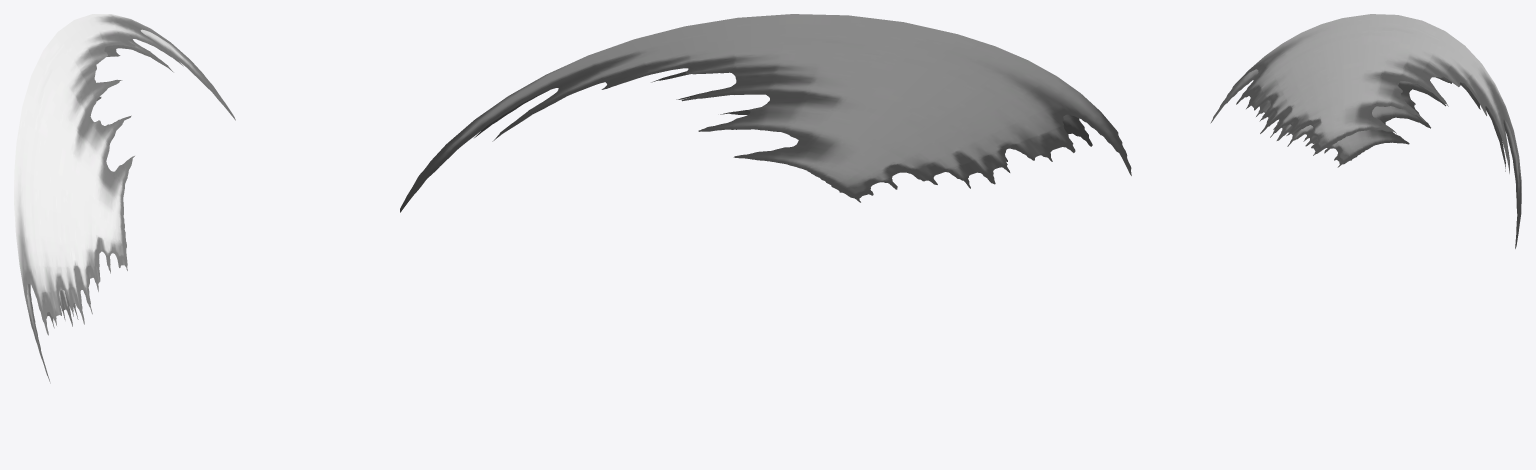
File: fx_cookie1305031_front_skill01.fbx
3 views of the same model, side by side, from view 1: azimuth 30°, elevation 25°; view 2: azimuth 150°, elevation 25°; view 3: azimuth 270°, elevation 25° (orthographic). The views are drawn at different scales.
Parts seen in each view (by area): view 1: L_scratch2; view 2: L_scratch2; view 3: L_scratch2.
Part boxes in pixels (<box>): L_scratch2: <box>14,14,235,383</box>; L_scratch2: <box>400,14,1131,212</box>; L_scratch2: <box>1210,14,1521,248</box>.
Bounding box in the file's own units: 514 × 499 × 454.
Materials: 1 (1 with a texture image).
